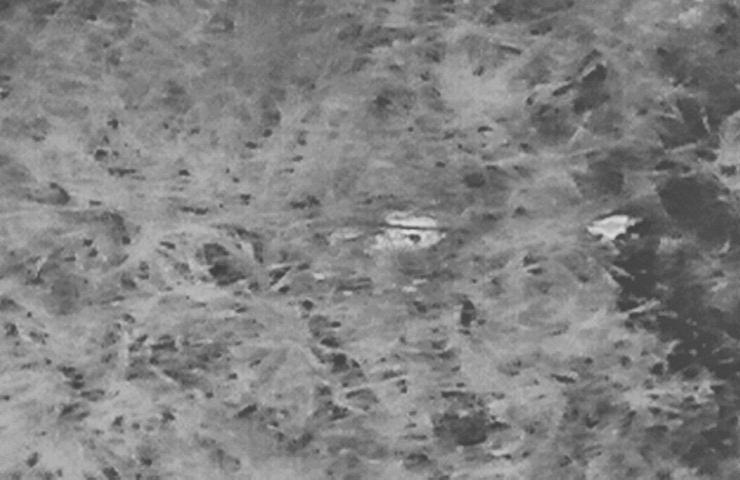landmines: (355, 199, 458, 300)
